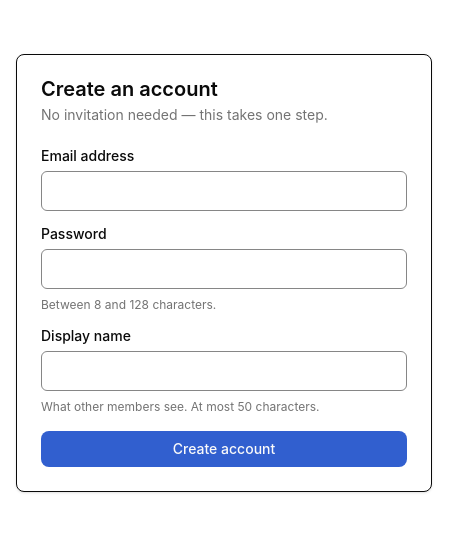
Scenario: when registration is temporarily limited › names the wait in seconds rather than paraphrasing it away
Type "someone@example.test" into the field labelled "Email address" at (224, 191), box [41,171,407,211]
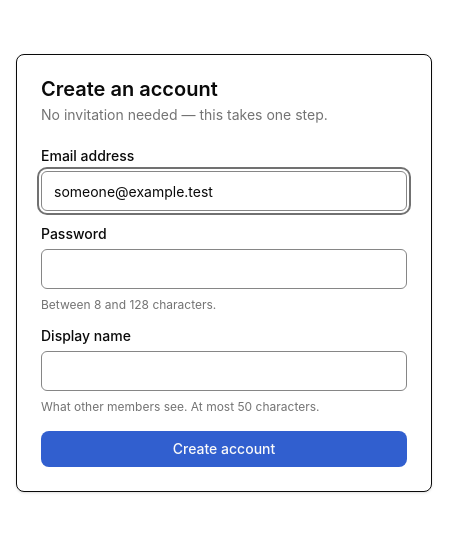
Type "a-long-enough-password" into the password field labelled "Password" at (224, 269), box [41,249,407,289]
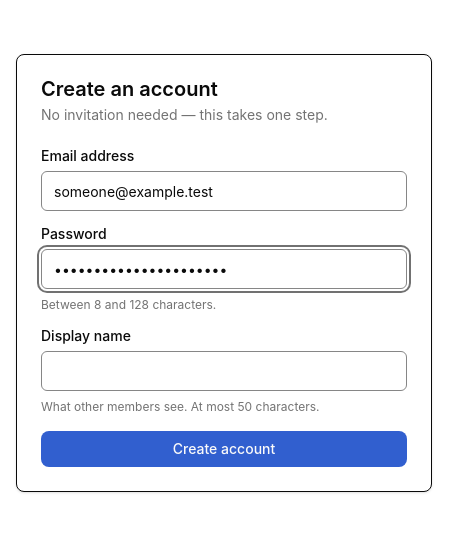
Type "Someone Real" into the field labelled "Display name" at (224, 371), box [41,351,407,391]
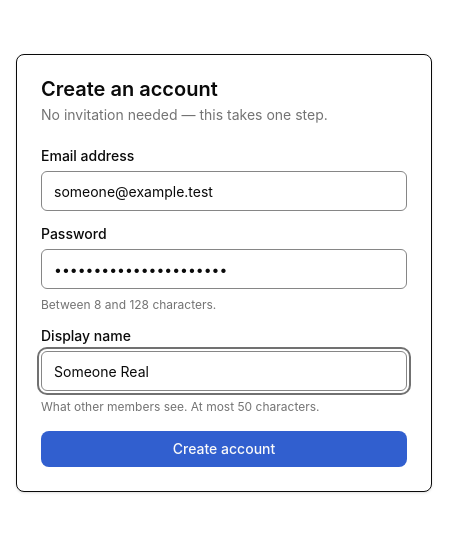
Click the button "Create account" at (224, 449), box [41,431,407,467]
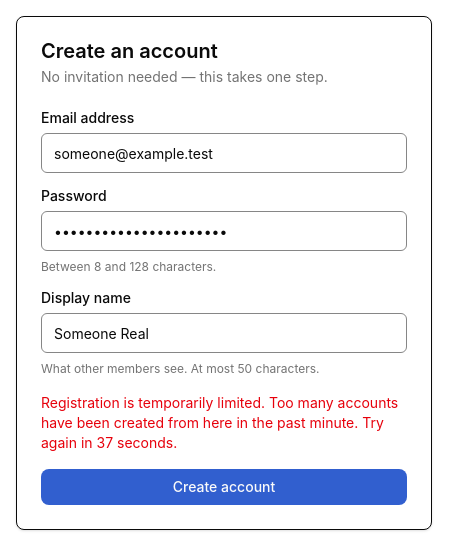
Result: the message shows "Registration is temporarily limited" at [41,394,398,451]
Result: the message shows "37 seconds" at [41,394,398,451]
